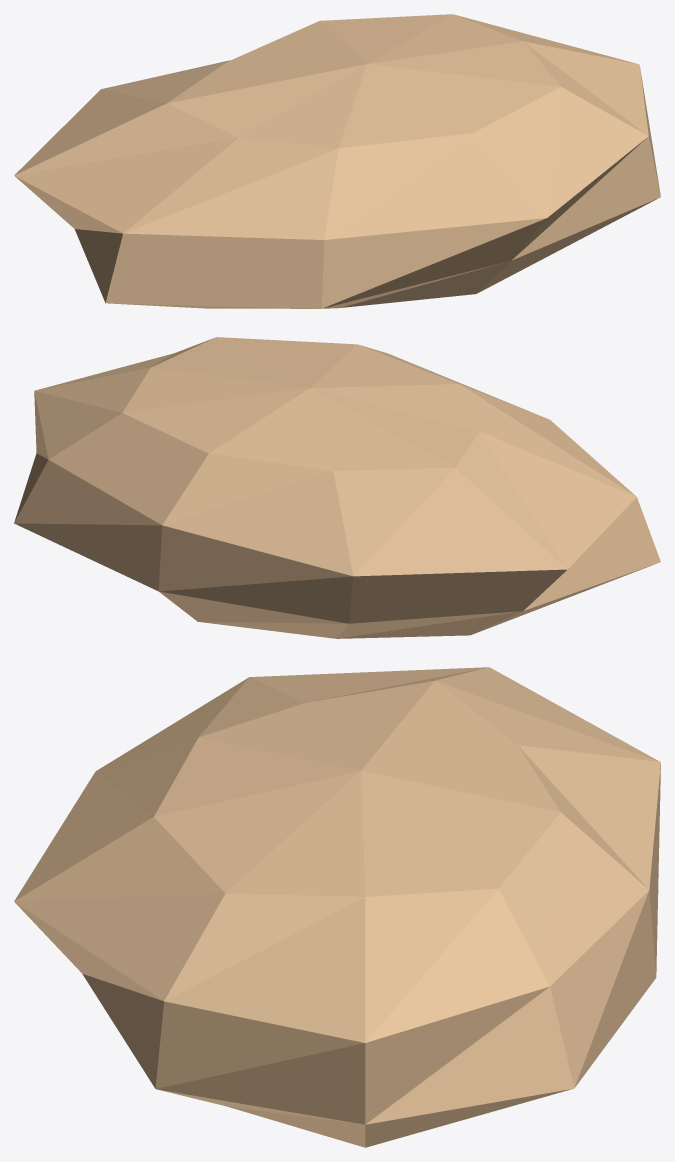
3 views of the same model, one above another, from view 1: azimuth 30°, elevation 25°; view 2: azimuth 150°, elevation 25°; view 3: azimuth 270°, elevation 25° (orthographic). The views are drawn at different scales.
Size of the model in its own units: 21.2 by 7 by 15.2.
